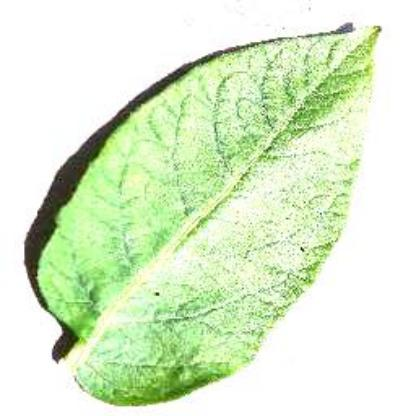Healthy-plant: (35, 26, 381, 406)
